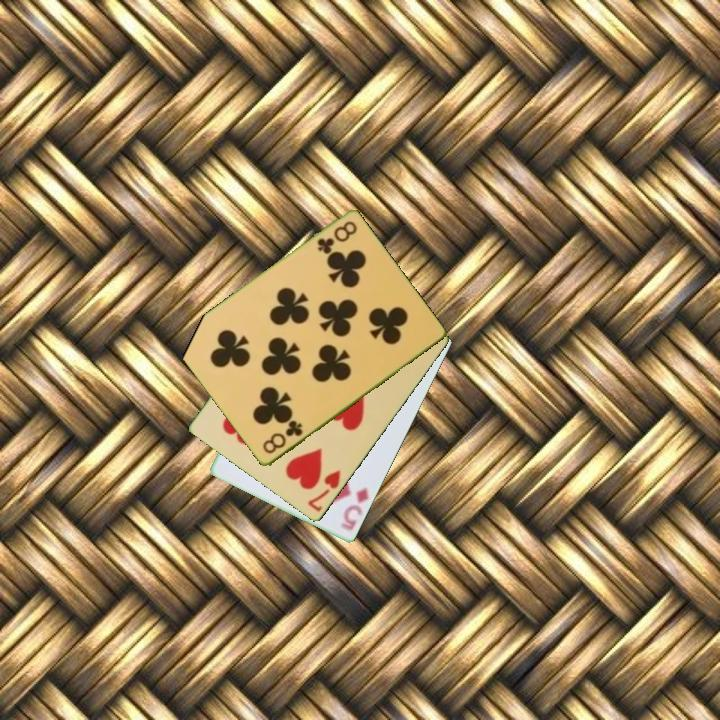5d: (337, 484, 371, 534)
7h: (304, 467, 344, 515)
8c: (259, 417, 306, 457), (313, 218, 360, 257)
